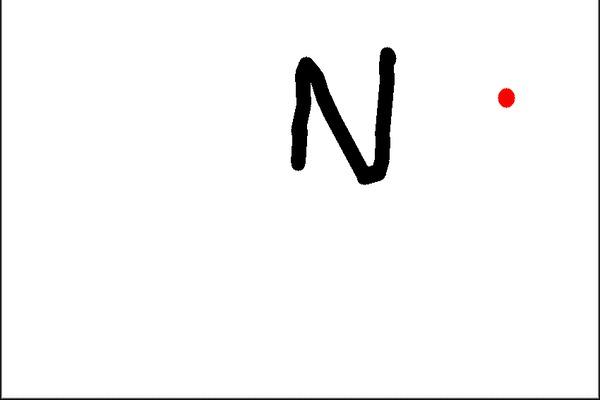N: (282, 42, 402, 190)
